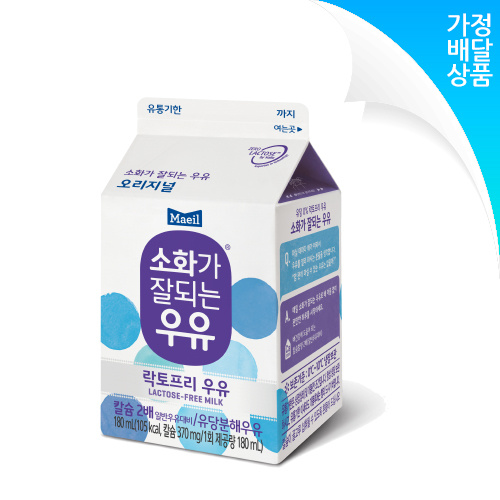milk: (101, 97, 342, 465)
